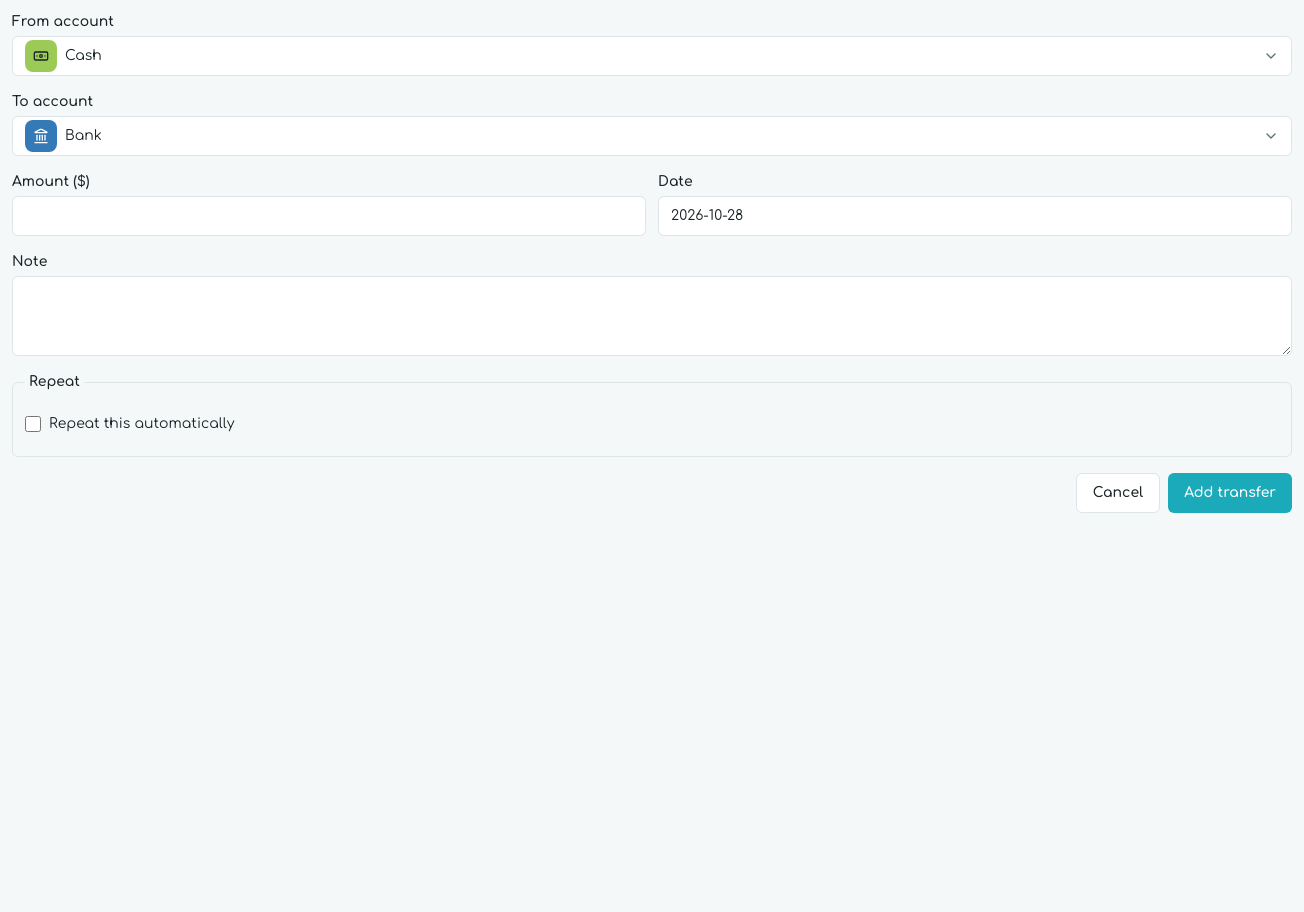
Test: repeat section of the add forms › shows transfer errors from the server
Type "5" into the field labelled "Amount ($)". click: (329, 216)
box: [12, 196, 646, 236]
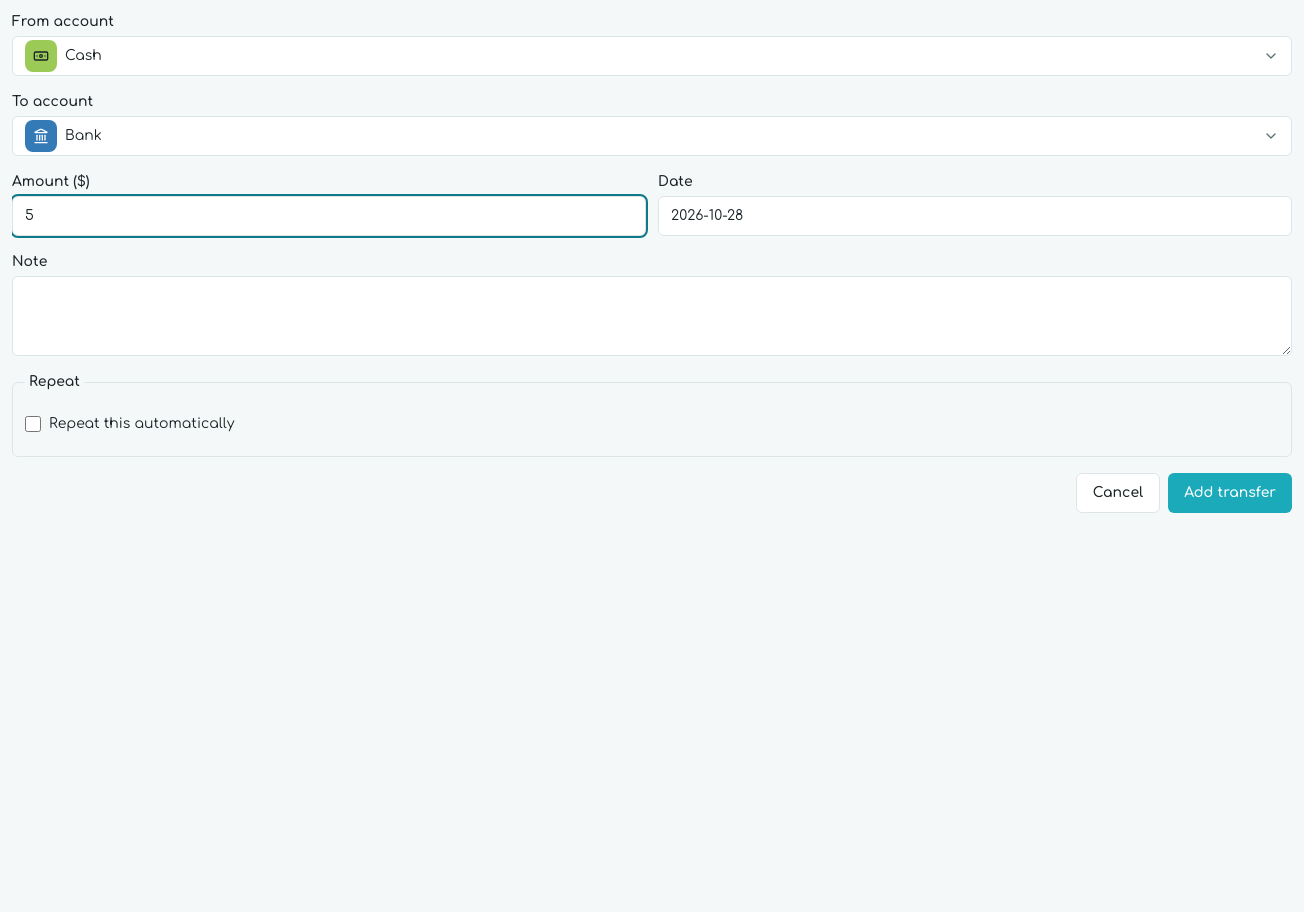
Click the checkbox labelled "Repeat this automatically". click: (33, 424)
box: [25, 416, 41, 432]
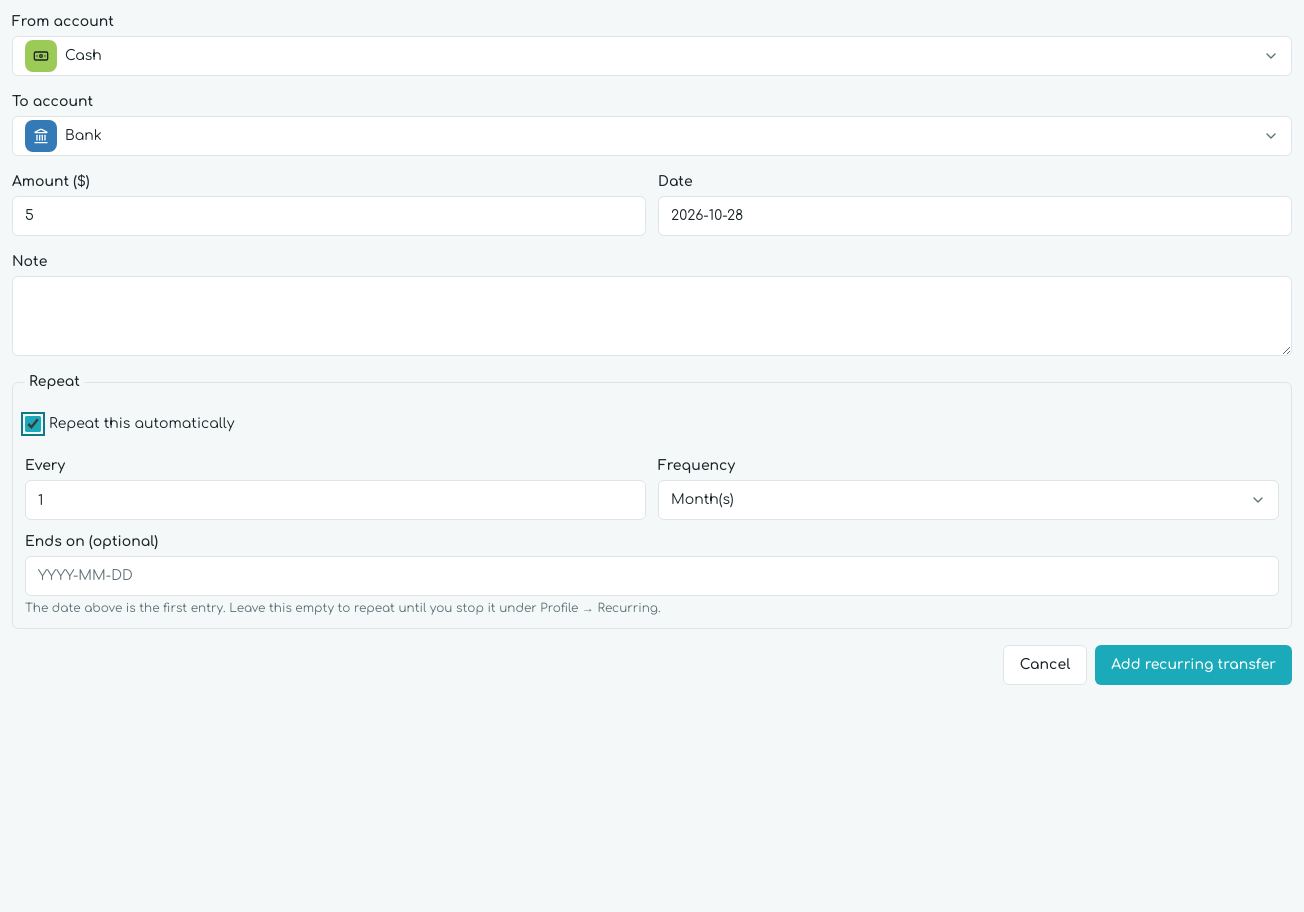
Click the button "Add recurring transfer". click: (1194, 665)
box: [1095, 645, 1292, 685]
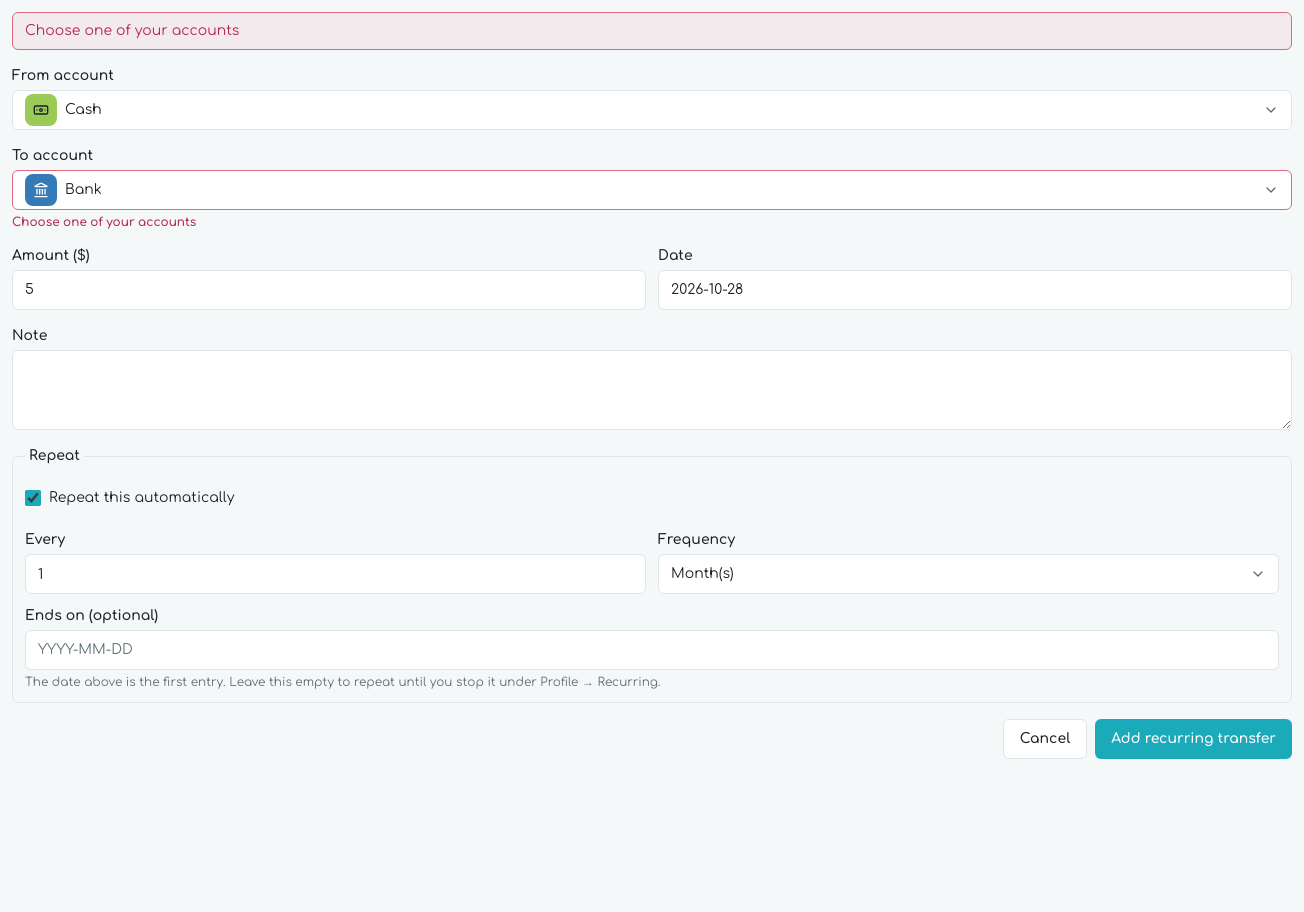
Expected: the 1st text "Choose one of your accounts" is shown, [12, 12, 1292, 50]
